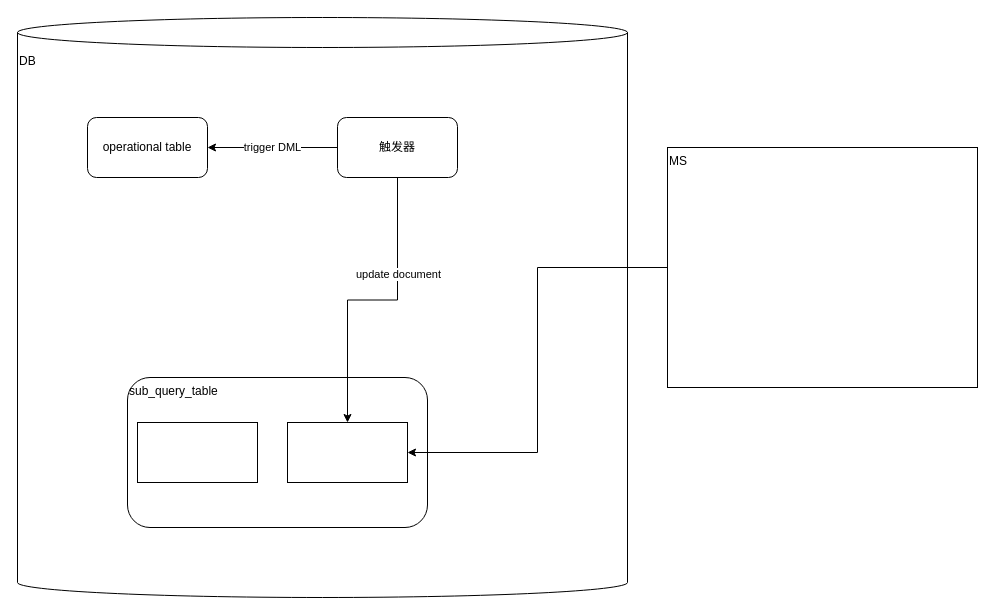
The diagram is 995 pixels wide and 615 high, and some of its shapes have lost their labels. The centre of each missing label's shape, as x and y in pixels:
"DOCUMENT" belongs at [347,452].
"ID" belongs at [197,452].
